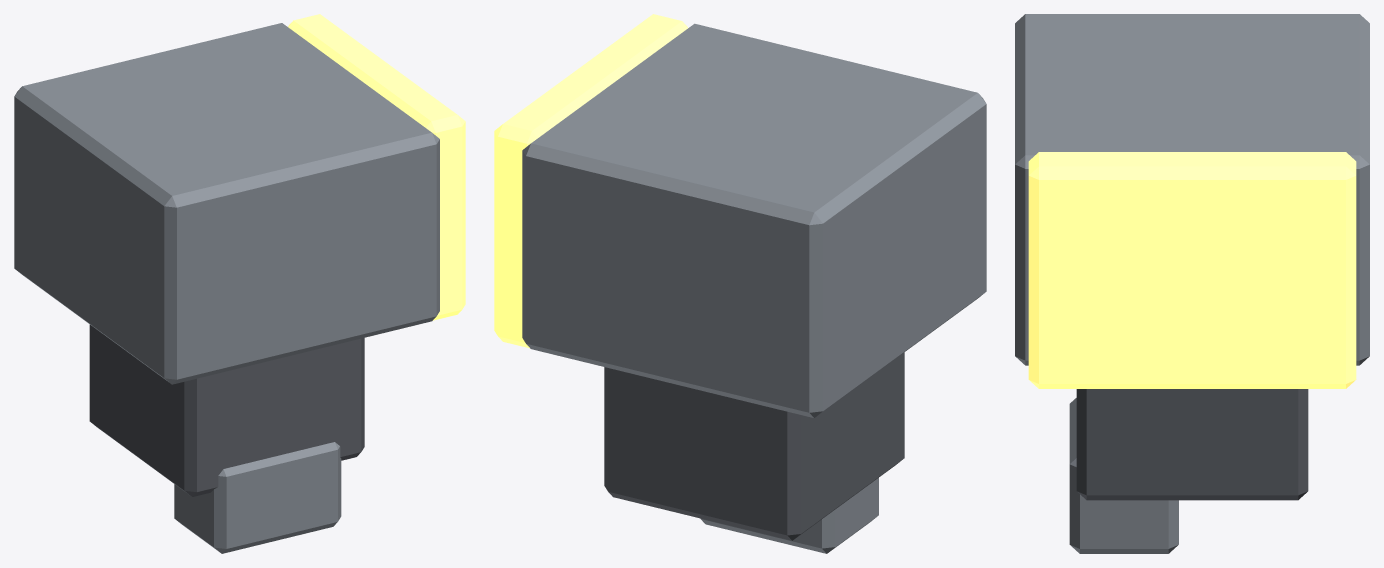
File: tankhead_arm_right_upper.glb
3 renders of one model, left to right at view 1: azimuth 30°, elevation 25°; view 2: azimuth 150°, elevation 25°; view 3: azimuth 270°, elevation 25°, orthographic. The views are drawn at different scales.
Parts seen in each view (by area): view 1: tankhead_arm_right_upper; view 2: tankhead_arm_right_upper; view 3: tankhead_arm_right_upper.
Boxes of the visible parts, x1,y1,x2,y2 form: tankhead_arm_right_upper: (14, 14, 465, 553); tankhead_arm_right_upper: (494, 14, 986, 553); tankhead_arm_right_upper: (1015, 14, 1369, 553).
Size of the model in its own units: 0.58 by 0.72 by 0.52.
